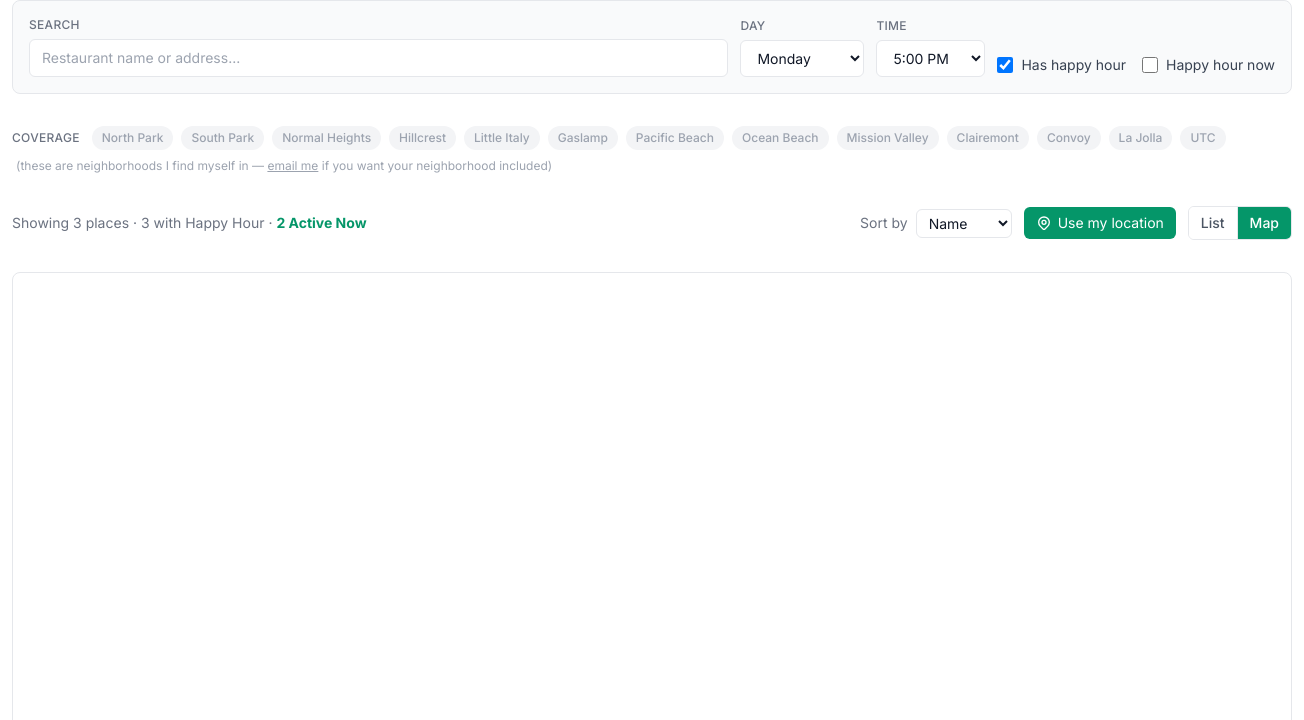
Test: HappyHourFinder - Filter Combinations › Given search query is cleared after filtering, When input is emptied, Then all restaurants matching other active filters are shown again
The image size is (1304, 720).
Click the button "List" at x=1213, y=223, box [1189,207,1237,239]
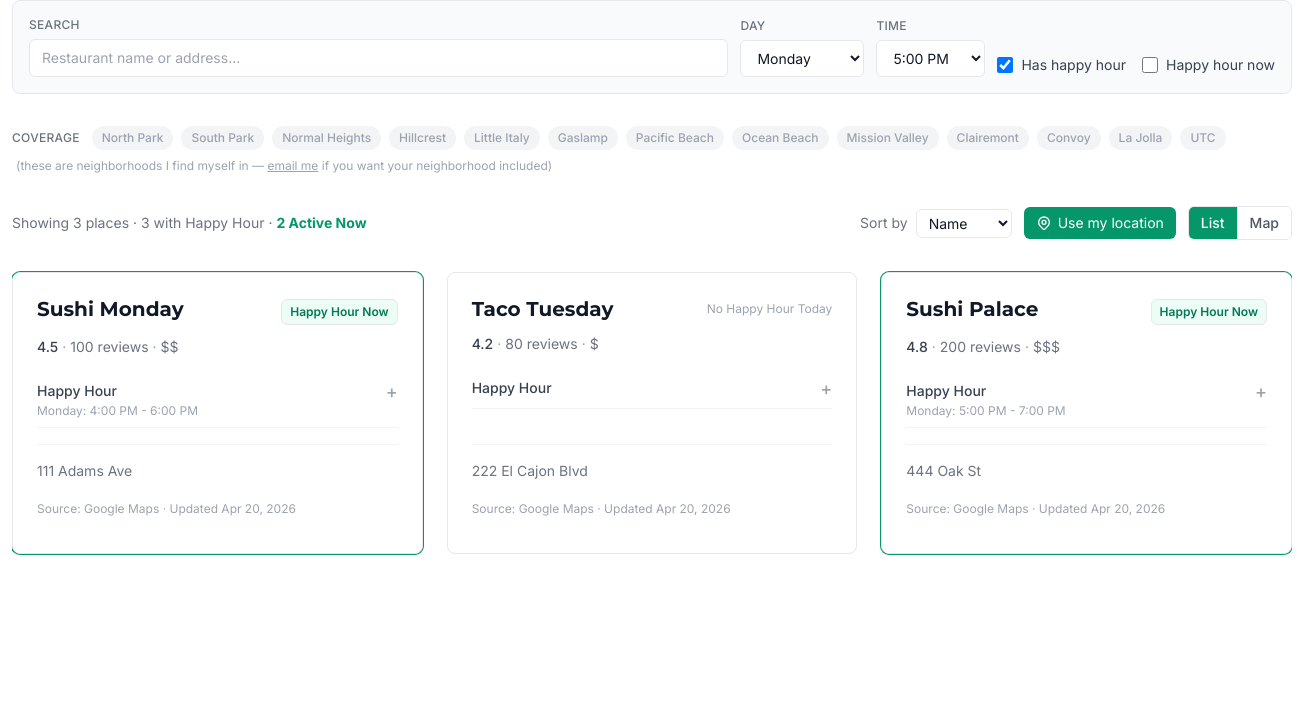
Type "Sushi" into the field with placeholder "Restaurant name or address..." at x=379, y=58, box [29,39,728,77]
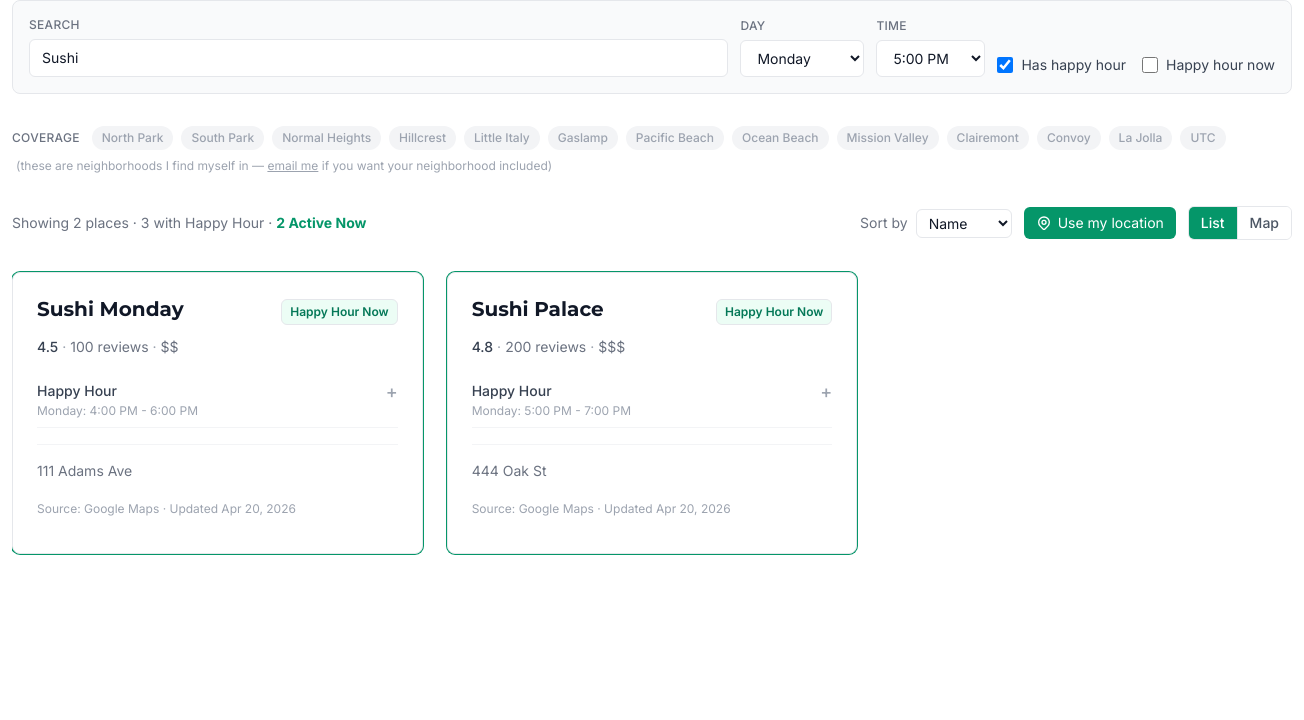
Now the heading "Taco Tuesday" is gone
Clear the field with placeholder "Restaurant name or address..." at x=379, y=58, box [29,39,728,77]
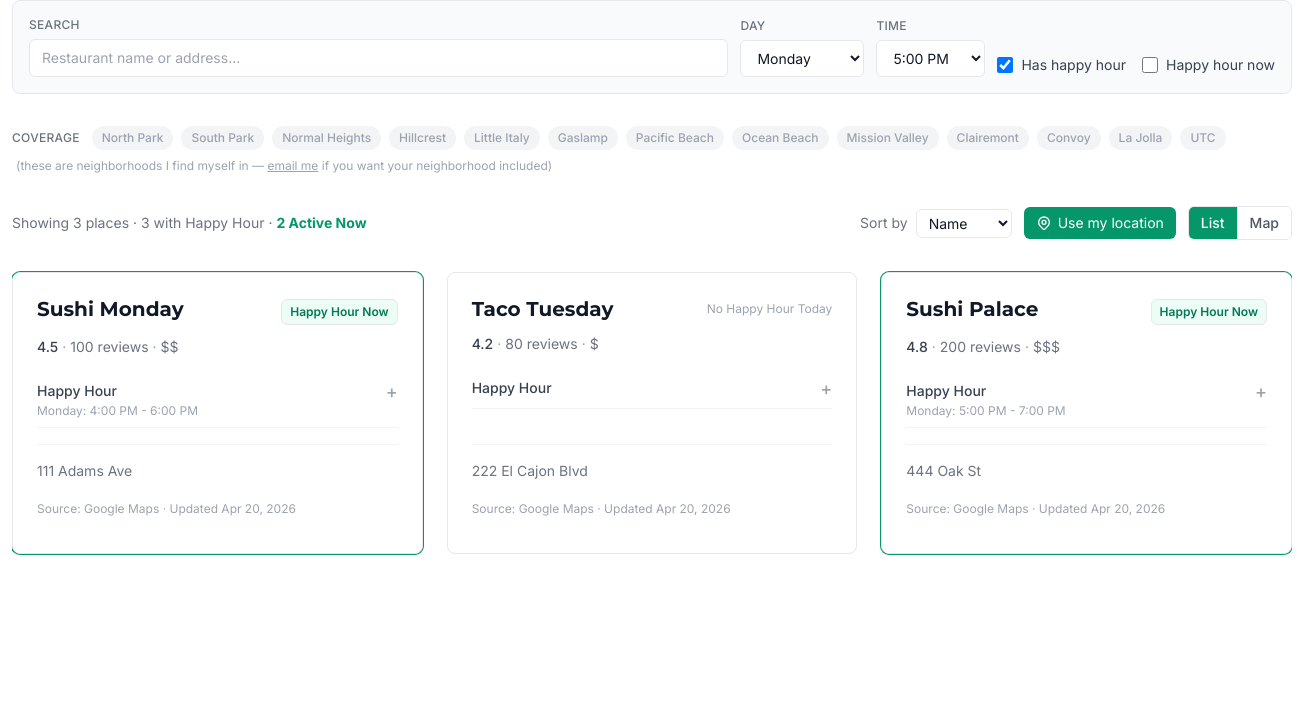
Now the heading "Sushi Monday" is shown, box [37,297,184,322]
Now the heading "Sushi Palace" is shown, box [906,297,1038,322]
Now the heading "Taco Tuesday" is shown, box [472,297,614,322]
